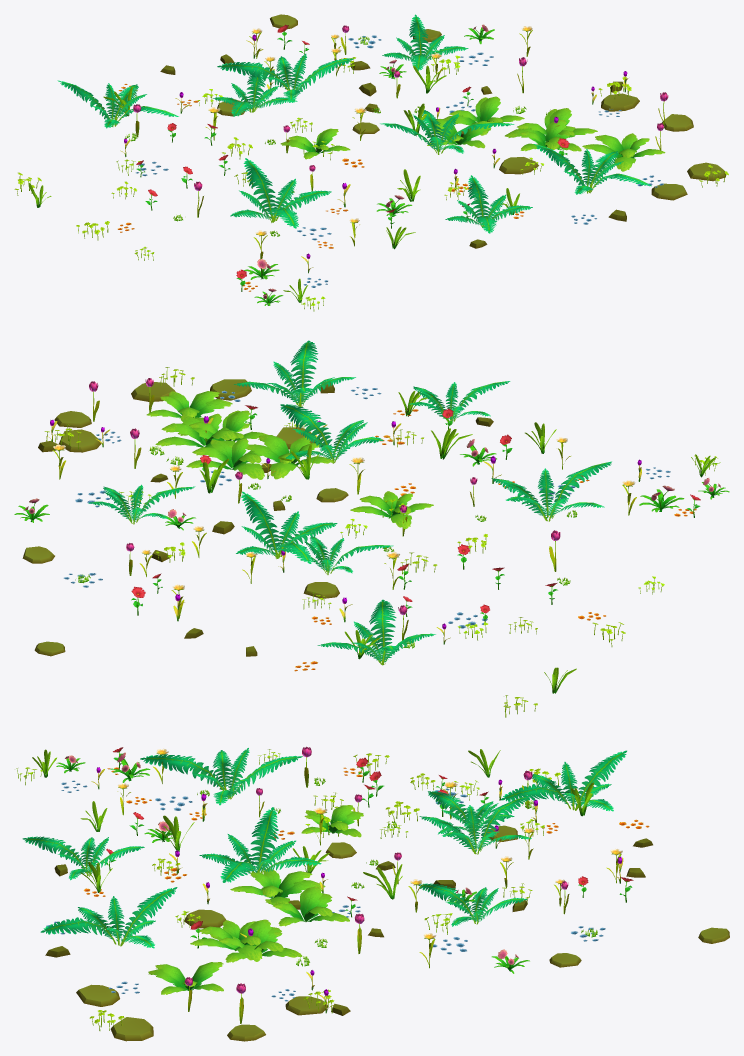
Rendered from Flores4.fbx.
The picture shows the model from 3 angles, top to bottom: view 1: azimuth 30°, elevation 25°; view 2: azimuth 150°, elevation 25°; view 3: azimuth 270°, elevation 25°; orthographic projection. The views are drawn at different scales.
Parts seen in each view (by area): view 1: Plane.023; view 2: Plane.023; view 3: Plane.023.
Part boxes in pixels (x1,y1,x2,y2): Plane.023: (14,14,728,311); Plane.023: (14,340,729,717); Plane.023: (16,746,729,1041).
Bounding box in the file's own units: 5.28 × 0.8654 × 5.2.
2 materials, 1 textured.
